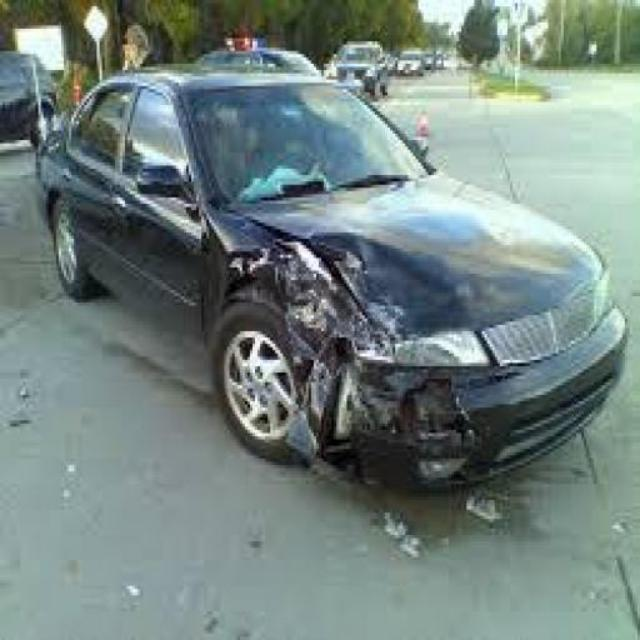dent: (202, 214, 478, 488)
